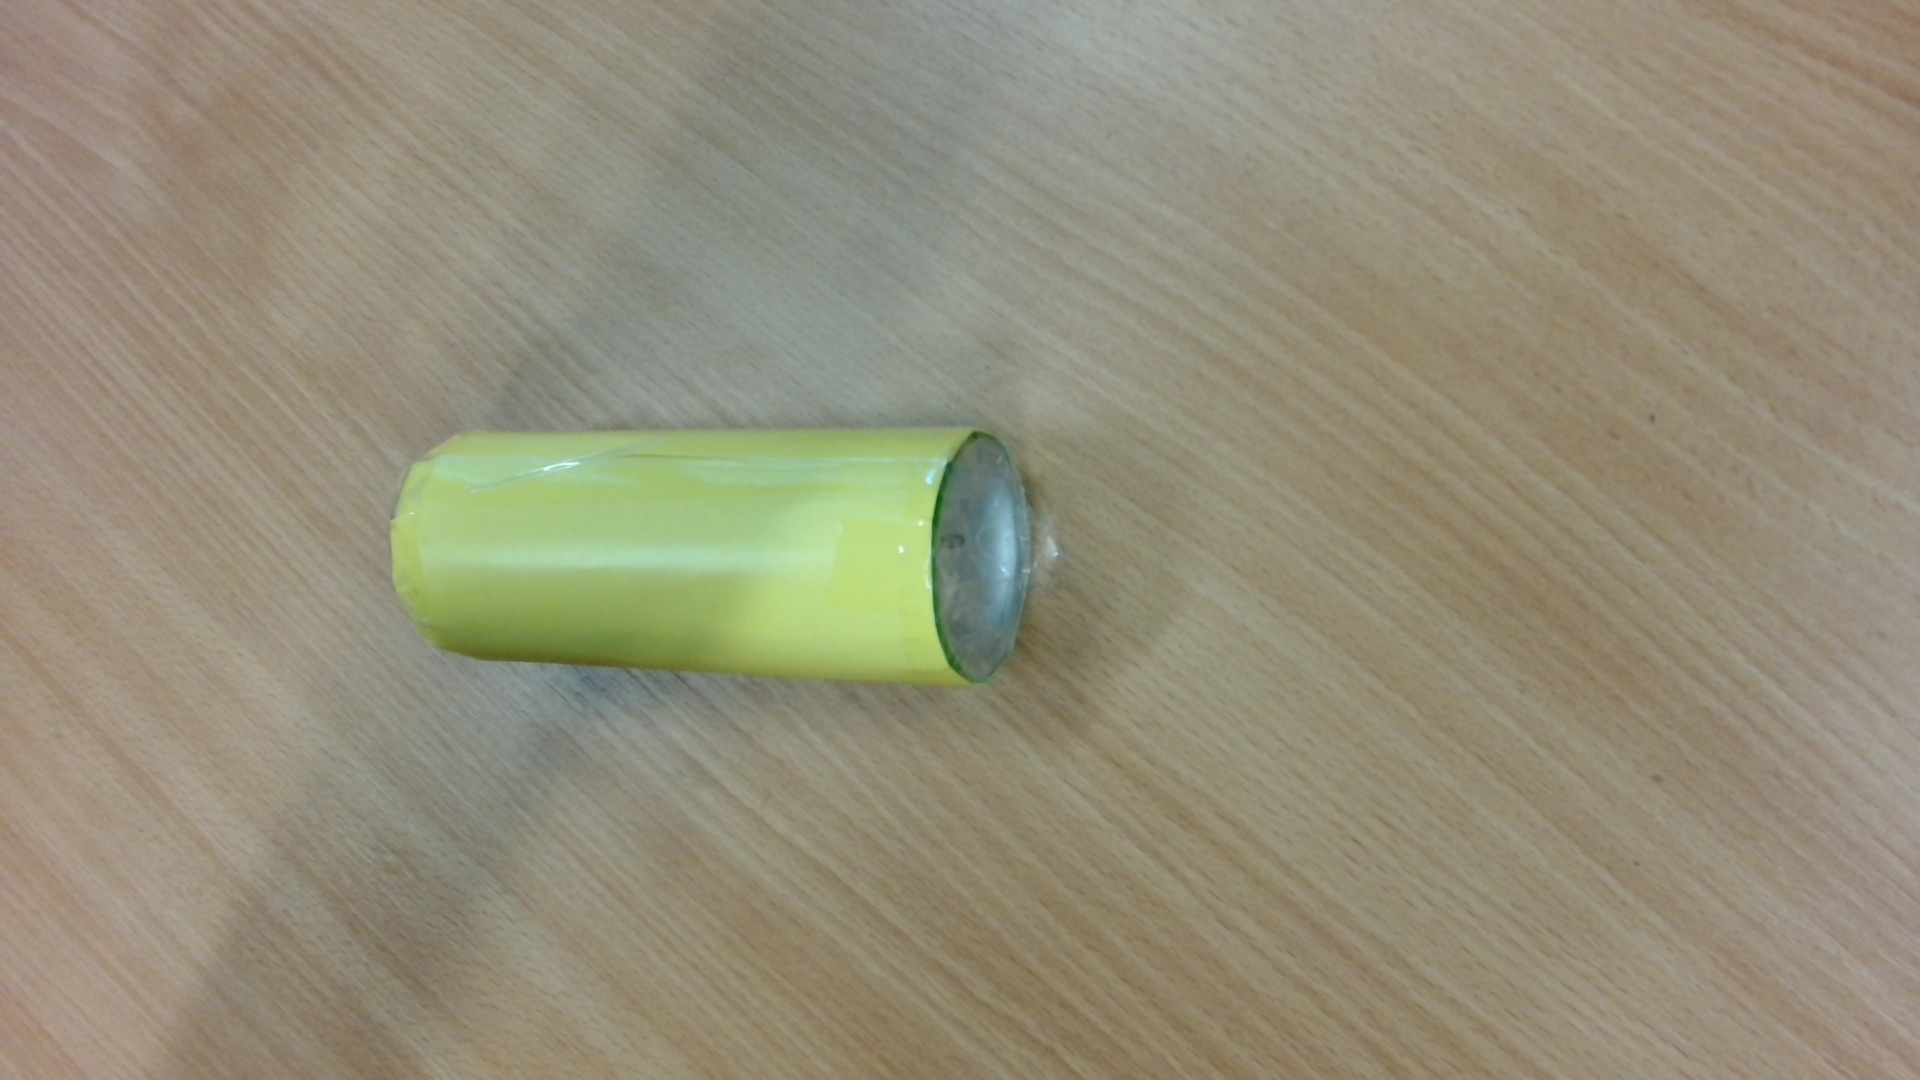Cylinder: (378, 417, 1044, 703)
